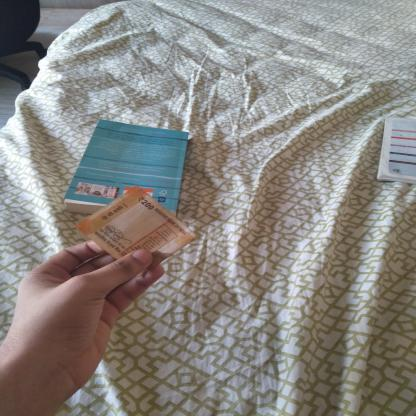New200Back: (76, 188, 188, 269)
